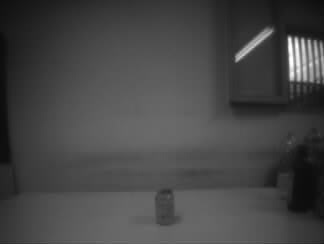Bottle: (275, 130, 296, 201)
Tin can: (154, 187, 176, 226)
